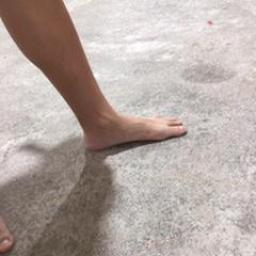Medial View -Left Foot-: (64, 103, 192, 160)
